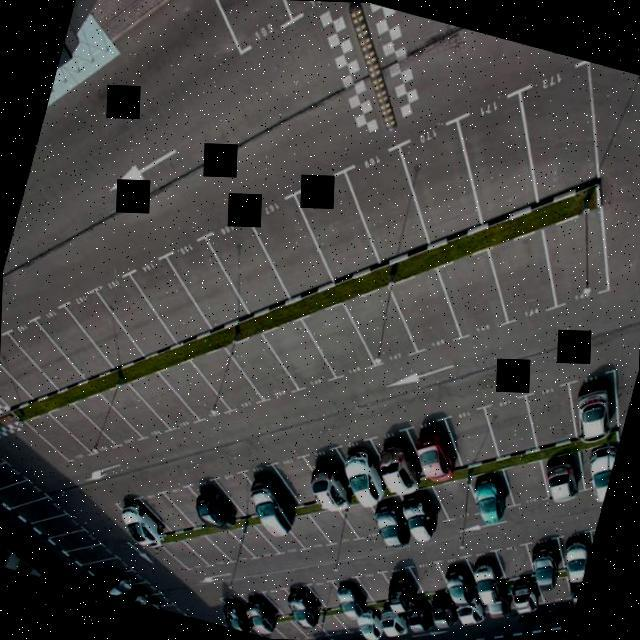space-empty: (266, 163, 405, 295), (374, 111, 502, 254), (324, 138, 456, 276), (500, 72, 627, 212), (444, 76, 554, 230), (222, 185, 354, 313), (146, 225, 278, 338), (189, 204, 309, 320), (113, 248, 235, 352), (78, 264, 198, 364), (50, 282, 172, 376), (23, 294, 140, 391), (380, 247, 473, 365), (530, 204, 628, 314), (333, 273, 431, 382), (424, 246, 511, 354), (252, 305, 346, 404), (1, 308, 106, 394), (479, 224, 558, 336), (294, 292, 386, 386), (182, 338, 280, 426), (223, 323, 311, 412), (120, 359, 212, 439), (150, 348, 243, 427), (0, 320, 82, 408), (90, 374, 180, 446), (64, 386, 150, 457), (18, 404, 96, 476), (520, 373, 590, 452), (46, 392, 127, 458), (476, 386, 546, 461), (438, 394, 508, 461), (265, 442, 328, 511), (496, 444, 558, 512), (208, 462, 274, 524), (220, 511, 288, 568), (304, 497, 362, 563), (428, 468, 480, 538), (331, 494, 389, 556), (274, 508, 332, 566), (204, 516, 264, 571), (78, 544, 137, 598), (0, 343, 44, 414), (46, 514, 105, 566), (252, 512, 310, 564), (160, 482, 218, 534), (27, 502, 86, 551), (14, 488, 70, 538), (136, 486, 196, 532), (63, 529, 114, 582), (0, 466, 50, 516), (183, 526, 235, 574), (162, 532, 215, 578), (491, 533, 537, 585), (302, 578, 357, 618), (351, 569, 399, 611), (254, 582, 304, 622), (533, 568, 572, 613), (408, 562, 452, 600), (0, 448, 28, 501), (333, 609, 371, 640), (311, 611, 349, 640), (292, 614, 330, 640), (272, 616, 310, 640), (254, 623, 294, 639), (148, 600, 184, 614), (0, 430, 7, 486)
space-occupied: (559, 356, 633, 449), (402, 409, 472, 480), (389, 470, 451, 548), (300, 442, 370, 508), (237, 459, 308, 524), (362, 420, 432, 485), (532, 444, 594, 516), (334, 438, 396, 506), (461, 460, 516, 529), (361, 486, 419, 550), (182, 477, 248, 533), (117, 492, 168, 550), (574, 437, 618, 500), (521, 531, 570, 587), (87, 560, 148, 603), (431, 555, 482, 601), (278, 578, 332, 620), (324, 574, 375, 618), (213, 592, 262, 634), (477, 580, 517, 629), (238, 586, 282, 628), (380, 564, 422, 606), (422, 589, 462, 632), (506, 573, 540, 621), (462, 552, 503, 590), (399, 598, 436, 640), (112, 577, 162, 608), (557, 530, 593, 572), (452, 592, 488, 634), (352, 604, 390, 640), (375, 601, 410, 640), (126, 590, 174, 612), (562, 564, 584, 606)
